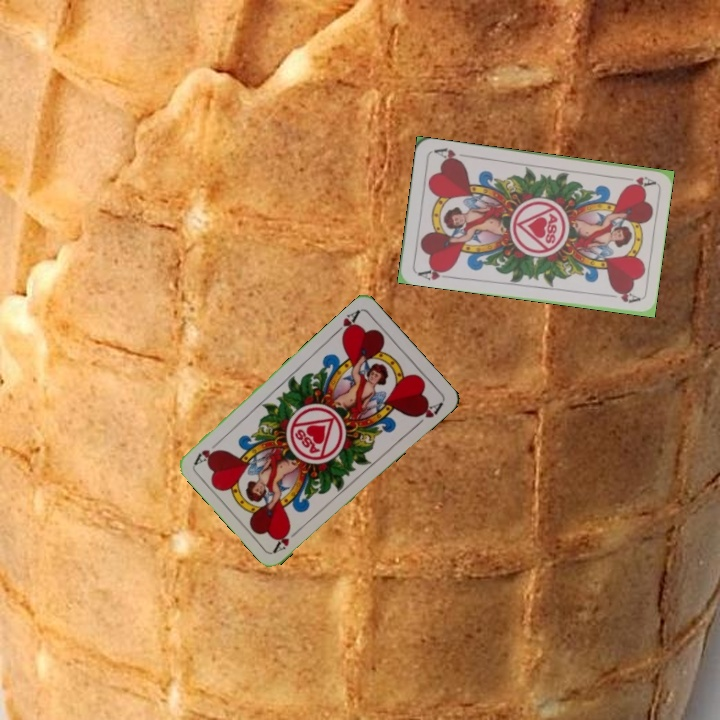HA: (330, 305, 363, 341), (270, 523, 304, 555), (413, 263, 454, 283), (616, 173, 657, 189)
